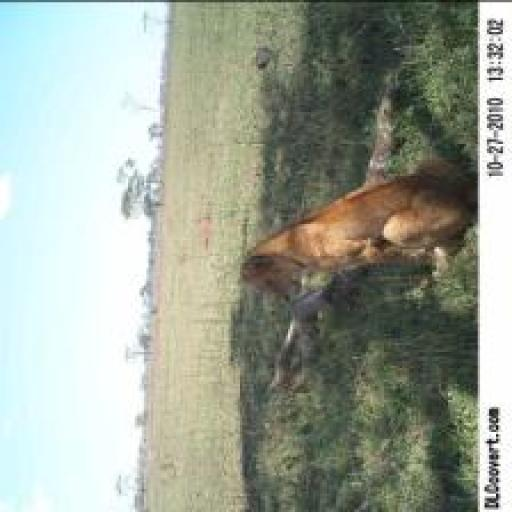lion: (233, 151, 474, 307)
